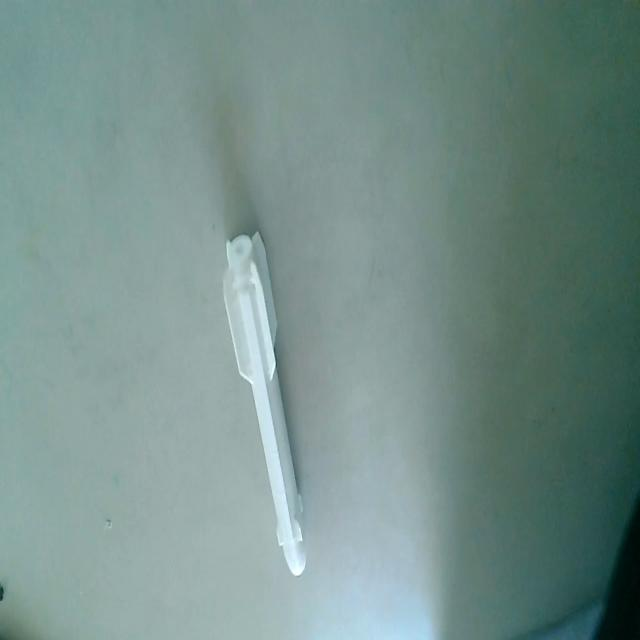Rocket: (220, 226, 310, 580)
